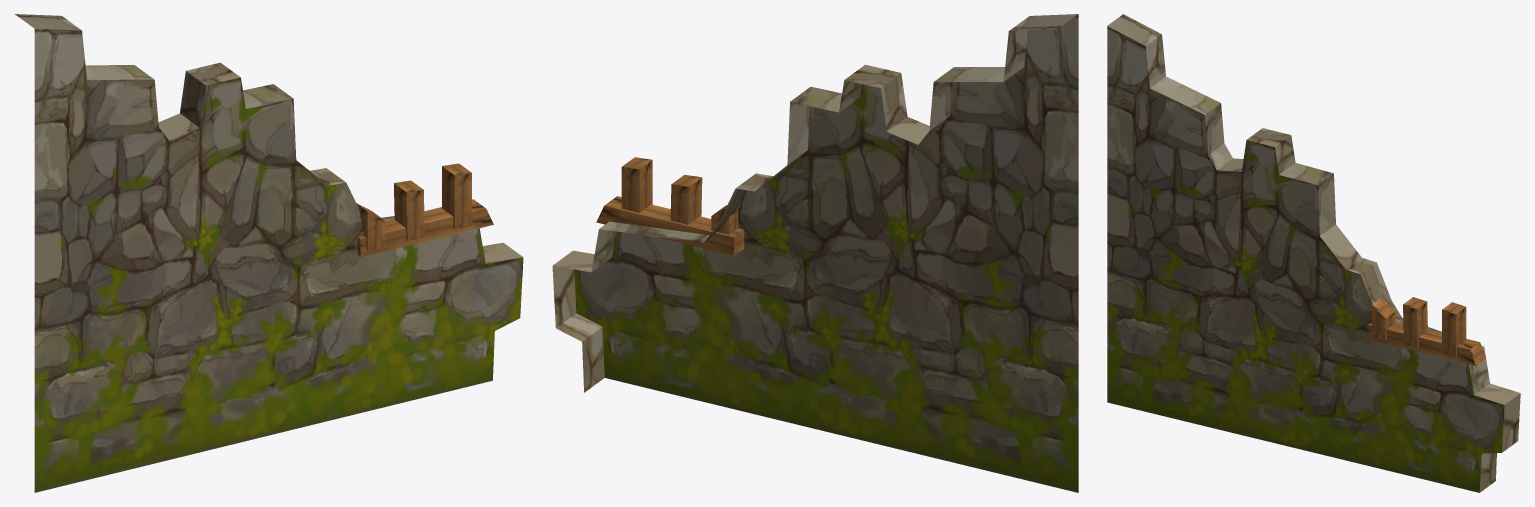
The model's file is sences_changbanpo_wujian017.FBX.
3 renders of one model, left to right at view 1: azimuth 30°, elevation 25°; view 2: azimuth 150°, elevation 25°; view 3: azimuth 330°, elevation 25°, orthographic. The views are drawn at different scales.
Parts seen in each view (by area): view 1: sences_changbanpo_wujian017; view 2: sences_changbanpo_wujian017; view 3: sences_changbanpo_wujian017.
Boxes of the visible parts, x1,y1,x2,y2 form: sences_changbanpo_wujian017: [15, 14, 523, 492]; sences_changbanpo_wujian017: [552, 14, 1078, 492]; sences_changbanpo_wujian017: [1107, 14, 1520, 492].
Bounding box in the file's own units: 3.18 × 0.2736 × 2.89.
